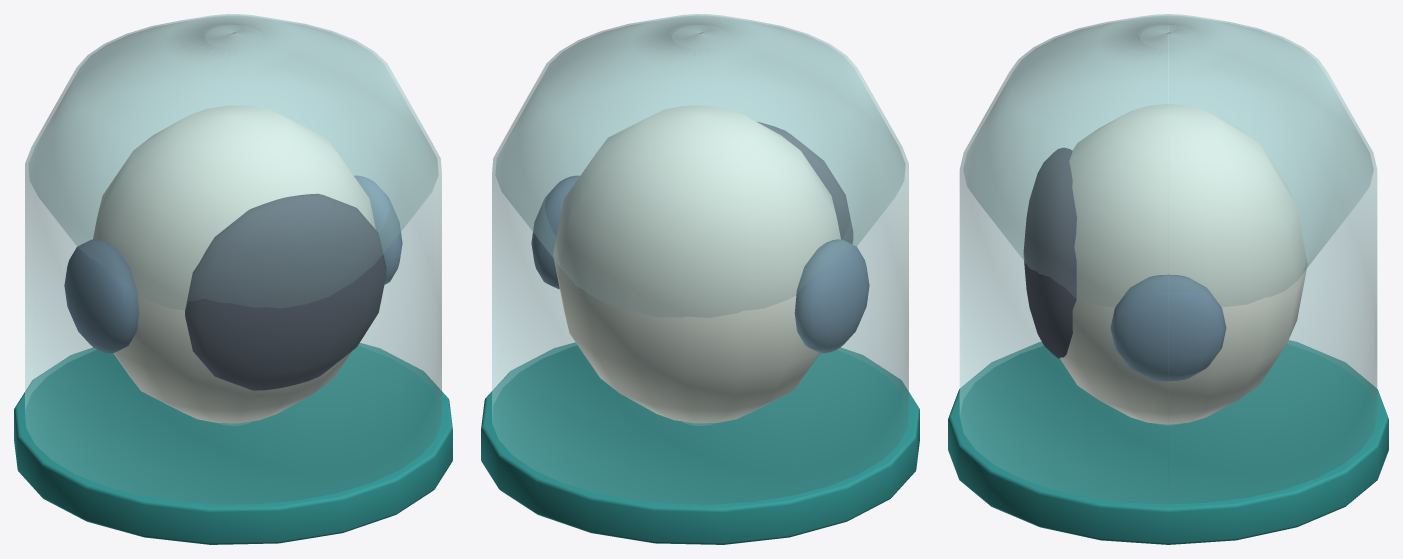
Rendered from space_helmet.glb.
3 views of the same model, side by side, from view 1: azimuth 30°, elevation 25°; view 2: azimuth 150°, elevation 25°; view 3: azimuth 270°, elevation 25° (orthographic).
Parts seen in each view (by area): view 1: Display_dome, Display_base, Helmet, Visor, Side_hinge, Side_hinge.001; view 2: Display_dome, Helmet, Display_base, Side_hinge, Side_hinge.001, Visor; view 3: Display_dome, Display_base, Helmet, Side_hinge.001, Visor.
Boxes of the visible parts, x1,y1,x2,y2 form: Display_dome: (25,14,441,504); Display_base: (14,343,452,544); Helmet: (93,105,375,423); Visor: (185,193,386,390); Side_hinge: (64,239,139,353); Side_hinge.001: (354,175,402,284); Display_dome: (492,14,908,504); Helmet: (553,105,840,423); Display_base: (481,342,919,544); Side_hinge: (794,239,869,353); Side_hinge.001: (531,175,579,289); Visor: (758,122,852,243); Display_dome: (959,14,1377,503); Display_base: (948,340,1388,544); Helmet: (1059,104,1307,424); Side_hinge.001: (1110,274,1226,381); Visor: (1023,147,1076,358).
Bounding box in the file's own units: 0.38 × 0.4 × 0.38.
